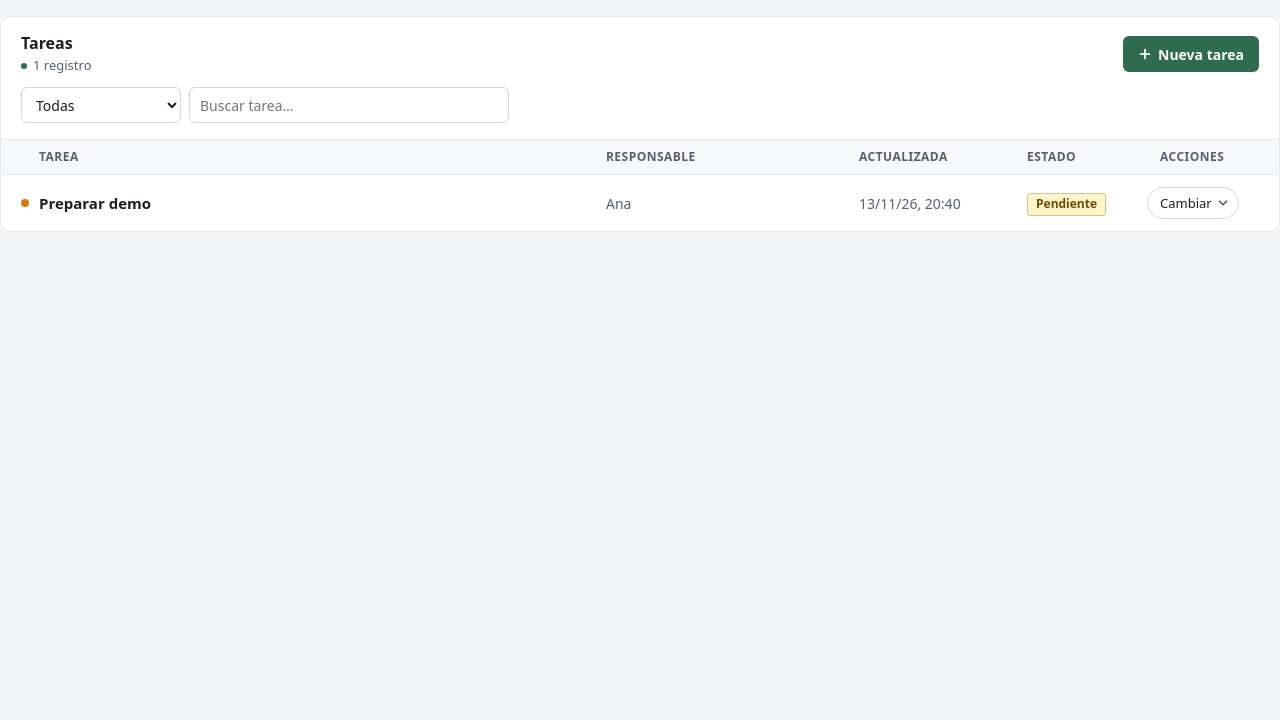
Test case: área de estado de la lista (carga y error) › si falla la carga tras cambiar de filtro (la lista anterior ya no vale), aparece el recuadro centrado
The width and height of the screenshot is (1280, 720).
Check: the heading "Preparar demo" is shown, box [39,193,151,214]
Select "Pendiente" in the dropdown named "Filtrar por estado". click: (101, 105)
box: [21,87,181,123]
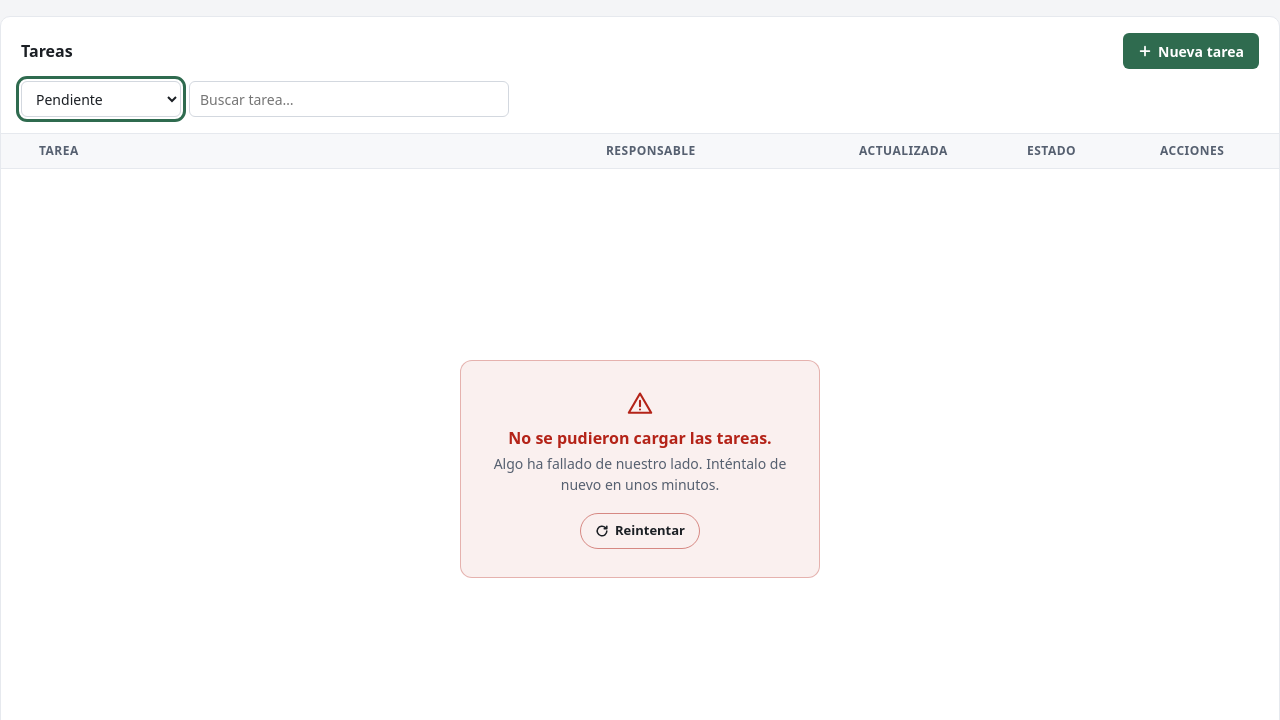
Check: the message shows "No se pudieron cargar las tareas.", box [508,427,772,449]
Check: the list item "Preparar demo Ana 13/11/26, 20:40 Pendiente Cambiar" is gone
